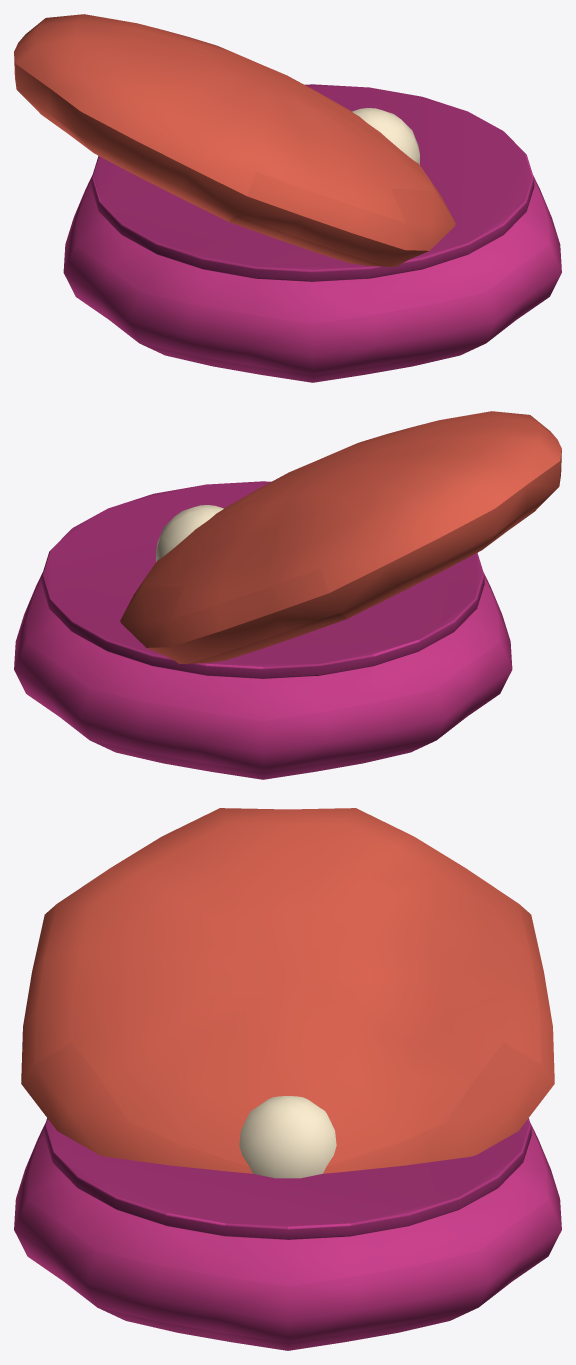
Rendered from SM_Item_GiantClam.fbx.
3 views of the same model, one above another, from view 1: azimuth 30°, elevation 25°; view 2: azimuth 150°, elevation 25°; view 3: azimuth 270°, elevation 25° (orthographic). The views are drawn at different scales.
Visible parts, largest first — view 1: SM_Item_GiantClam; view 2: SM_Item_GiantClam; view 3: SM_Item_GiantClam.
Part boxes in pixels (x1,y1,x2,y2): SM_Item_GiantClam: (14, 14, 561, 382); SM_Item_GiantClam: (14, 411, 561, 779); SM_Item_GiantClam: (14, 808, 561, 1350).
Bounding box in the file's own units: 87.35 × 54.42 × 76.56.
